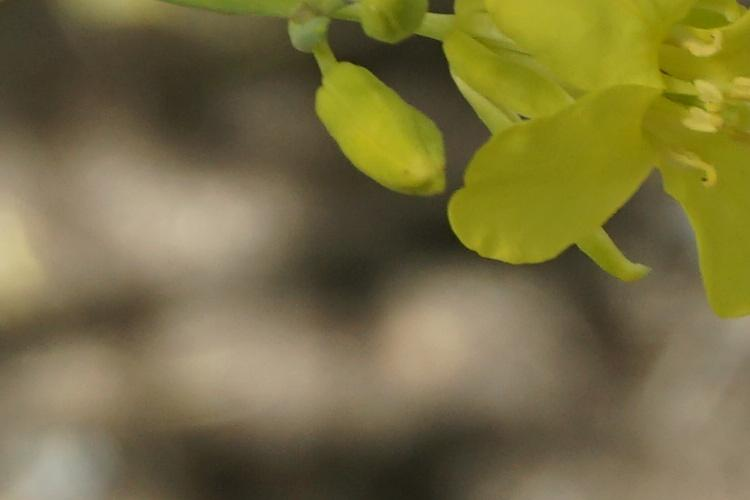bud: (313, 53, 448, 212), (354, 1, 433, 54)
yellow: (444, 1, 750, 324)
